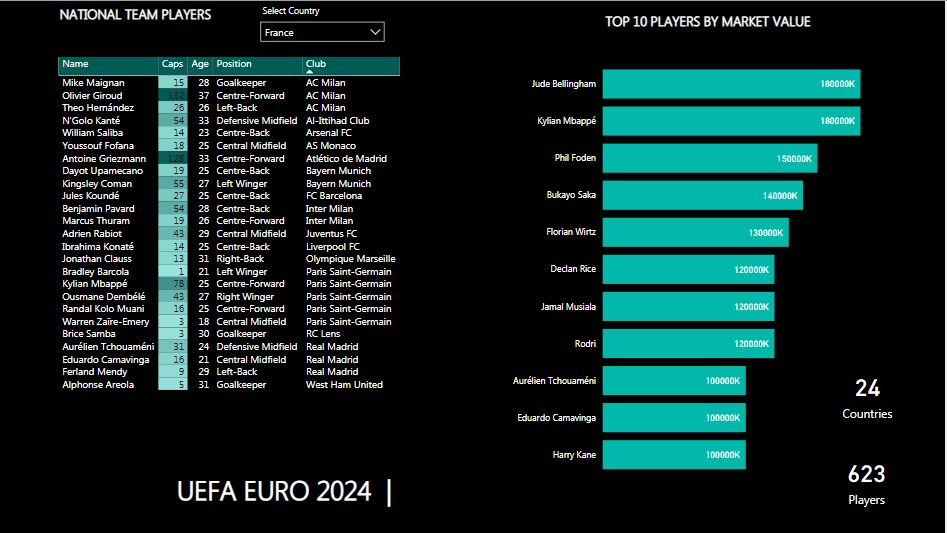

The dashboard page shown, as its layout file describes it:
{"tool":"powerbi","page":{"name":"Page 1","canvas":[1280,720],"ordinal":0},"visuals":[{"type":"tableEx","fields":{"Values":["euro2024_players.Name","euro2024_players.Caps","euro2024_players.Age","euro2024_players.Position","euro2024_players.Club"]},"box":[74.4,70.4,537.3,510.2],"z":0},{"type":"textbox","box":[77.1,0,277.4,50.1],"z":7},{"type":"textbox","box":[809.3,9.5,300.5,50.1],"z":8},{"type":"slicer","fields":{"Values":["euro2024_players.Country"]},"box":[343.8,0,188.1,70.4],"z":1000},{"type":"clusteredBarChart","title":"TOP PLAYERS MARKET VALUE","fields":{"Category":["euro2024_players.Name"],"Y":["euro2024_players.MarketValue"]},"box":[680.8,59.5,529.2,599.5],"z":2000},{"type":"textbox","box":[198.9,611.7,374.9,97.4],"z":3000},{"type":"card","fields":{"Values":["euro2024_players.Country"]},"box":[1082.7,483.2,185.4,97.4],"z":4000},{"type":"card","fields":{"Values":["euro2024_players.Name"]},"box":[1080,599.5,188.1,97.4],"z":5000}]}

Visuals, with their boxes in screenshot pixels (x1, y1, x2, y2), scaled from the page's 1280x720 canvas onto the 947x533 screenshot:
tableEx - euro2024_players.Name x euro2024_players.Caps: (left=55, top=52, right=453, bottom=430)
textbox: (left=57, top=0, right=262, bottom=37)
textbox: (left=599, top=7, right=821, bottom=44)
slicer - euro2024_players.Country: (left=254, top=0, right=394, bottom=52)
"TOP PLAYERS MARKET VALUE" clusteredBarChart: (left=504, top=44, right=895, bottom=488)
textbox: (left=147, top=453, right=425, bottom=525)
card - euro2024_players.Country: (left=801, top=358, right=938, bottom=430)
card - euro2024_players.Name: (left=799, top=444, right=938, bottom=516)
